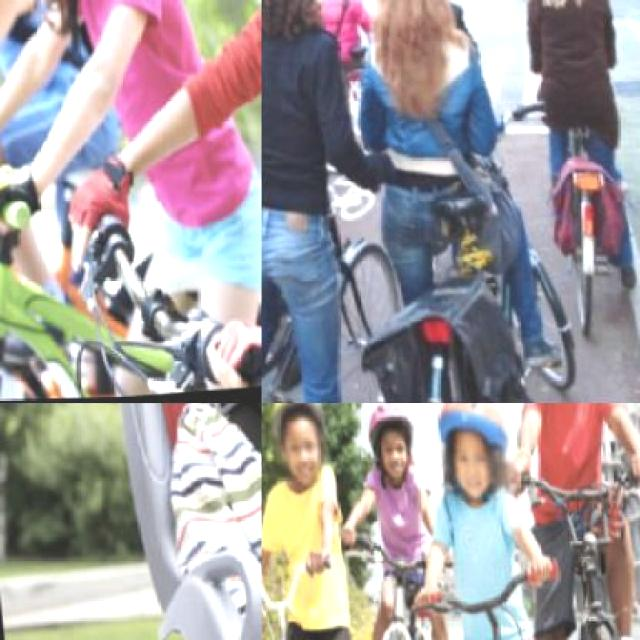With Helmet: (432, 403, 516, 503), (263, 403, 329, 492), (360, 403, 418, 480)
Without Helmet: (364, 0, 452, 32), (262, 0, 320, 48)
